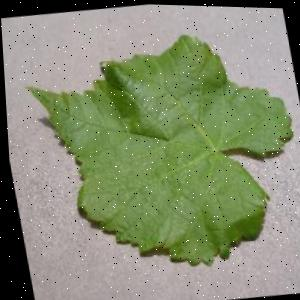Folha: (13, 18, 300, 286)
